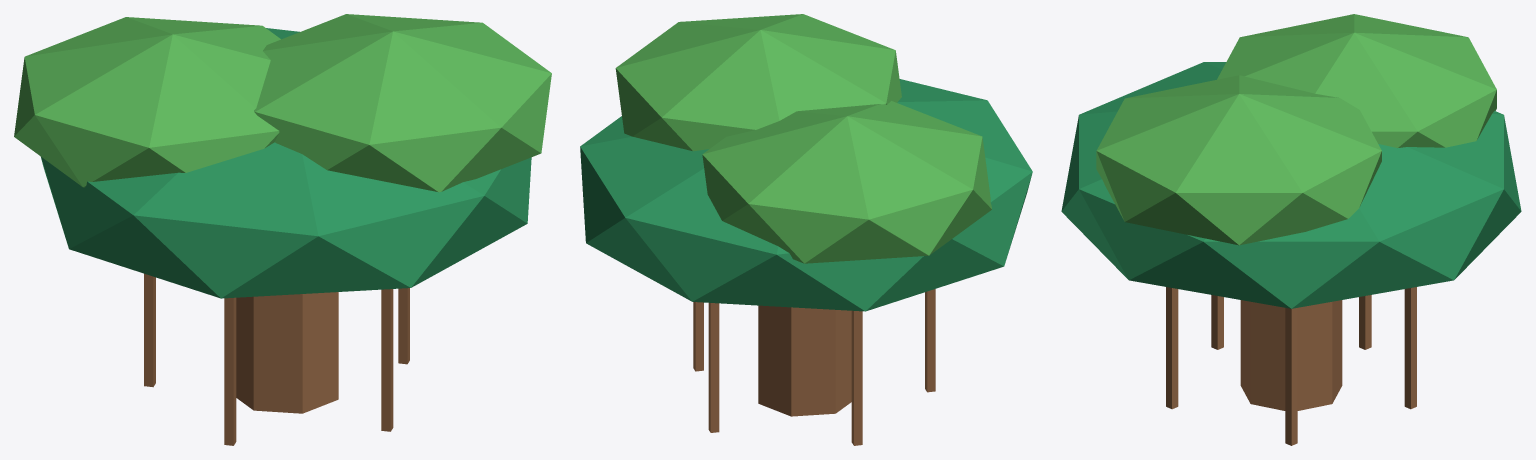
Rendered from tree_banyan.glb.
3 views of the same model, side by side, from view 1: azimuth 30°, elevation 25°; view 2: azimuth 150°, elevation 25°; view 3: azimuth 270°, elevation 25° (orthographic). The views are drawn at different scales.
Visible parts, largest first — view 1: tree_banyan; view 2: tree_banyan; view 3: tree_banyan.
Part boxes in pixels (x1,y1,x2,y2): tree_banyan: (14,14,551,445); tree_banyan: (580,14,1032,445); tree_banyan: (1061,14,1521,445).
Bounding box in the file's own units: 0.572 × 0.455 × 0.572.
